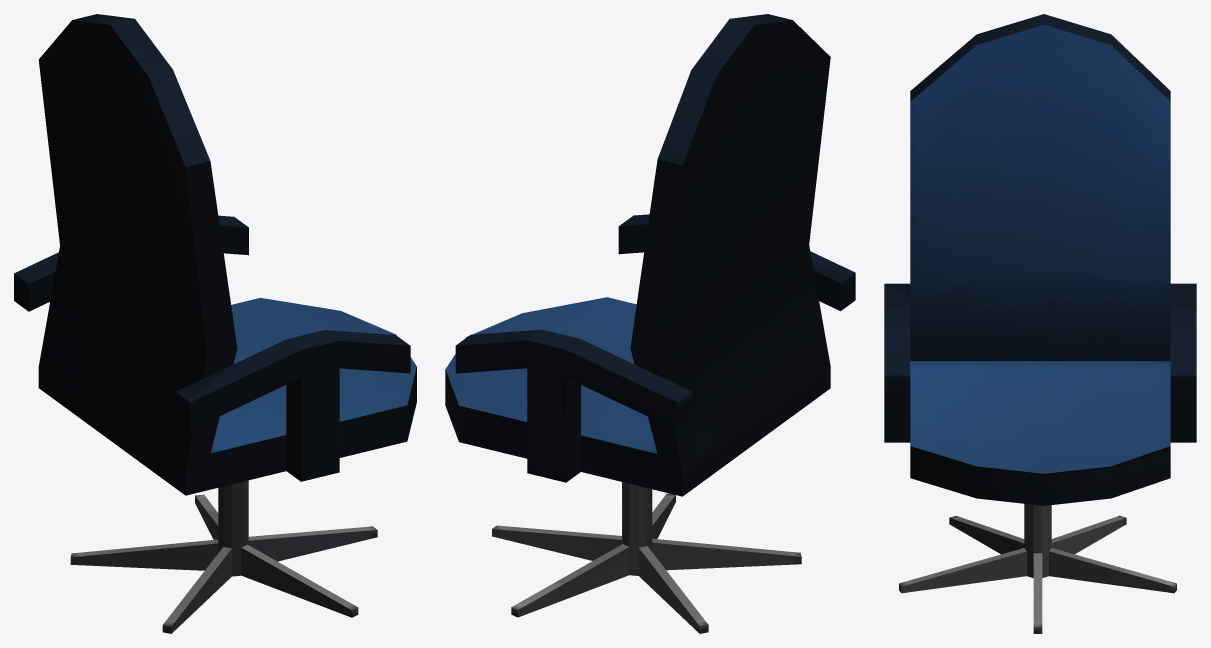
Rendered from Tx_prop_office_chair_5.fbx.
3 views of the same model, side by side, from view 1: azimuth 30°, elevation 25°; view 2: azimuth 150°, elevation 25°; view 3: azimuth 270°, elevation 25° (orthographic). The views are drawn at different scales.
Parts seen in each view (by area): view 1: Tx_prop_office_chair_11; view 2: Tx_prop_office_chair_11; view 3: Tx_prop_office_chair_11.
Boxes of the visible parts, x1=… form: Tx_prop_office_chair_11: x1=14, y1=14, x2=416, y2=633; Tx_prop_office_chair_11: x1=445, y1=14, x2=855, y2=633; Tx_prop_office_chair_11: x1=884, y1=14, x2=1196, y2=633.
Size of the model in its own units: 3.27 by 6.04 by 3.38.
